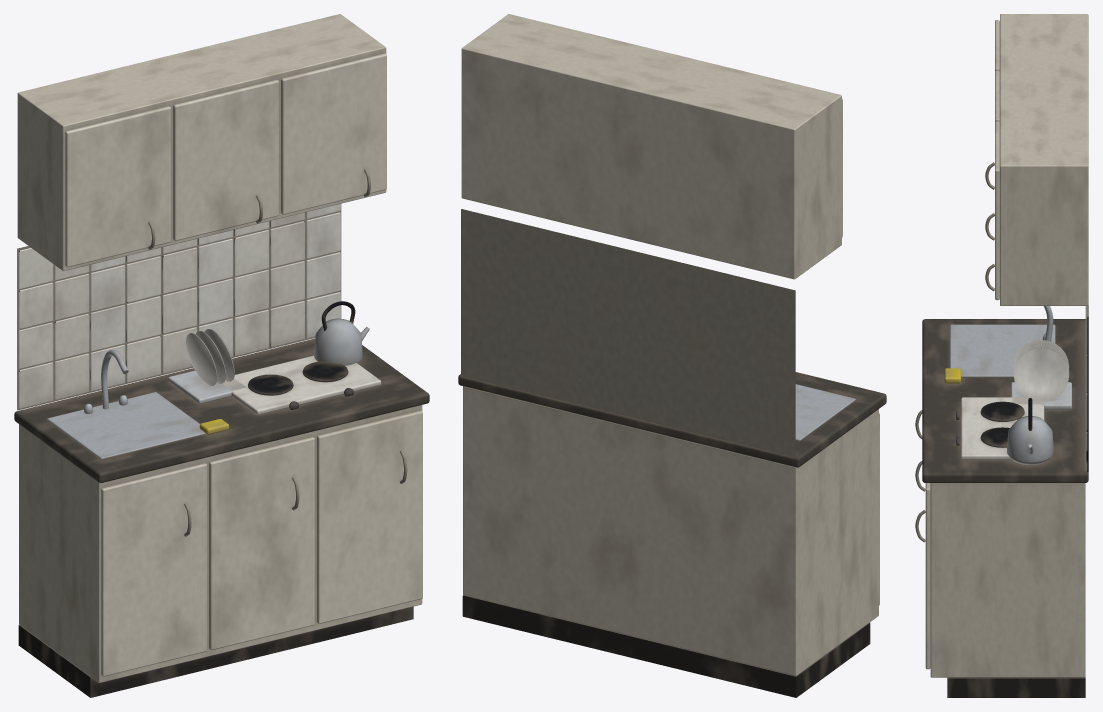
The model's file is dom_aneks.glb.
3 renders of one model, left to right at view 1: azimuth 30°, elevation 25°; view 2: azimuth 150°, elevation 25°; view 3: azimuth 270°, elevation 25°, orthographic. The views are drawn at different scales.
Visible parts, largest first — view 1: Aneks; view 2: Aneks; view 3: Aneks.
Boxes of the visible parts, x1,y1,x2,y2 form: Aneks: [14, 14, 429, 697]; Aneks: [458, 14, 886, 697]; Aneks: [915, 14, 1088, 697].
Bounding box in the file's own units: 1.33 × 2.12 × 0.625.
1 material, 1 textured.
